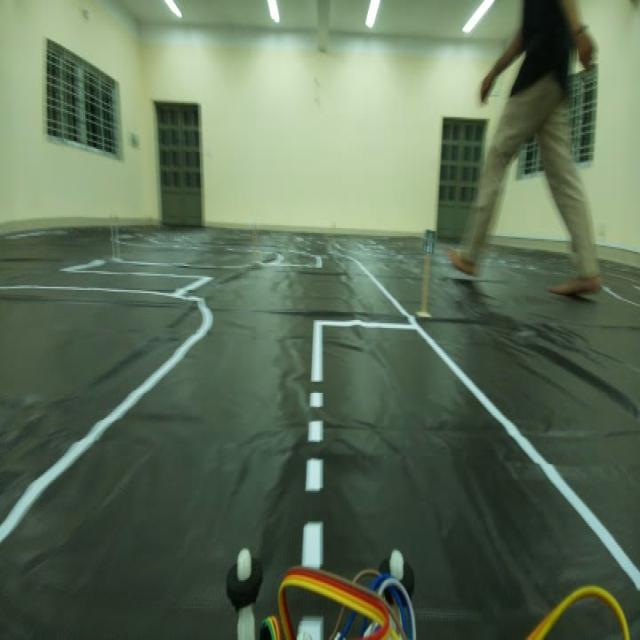highway_exit: (419, 223, 439, 262)
